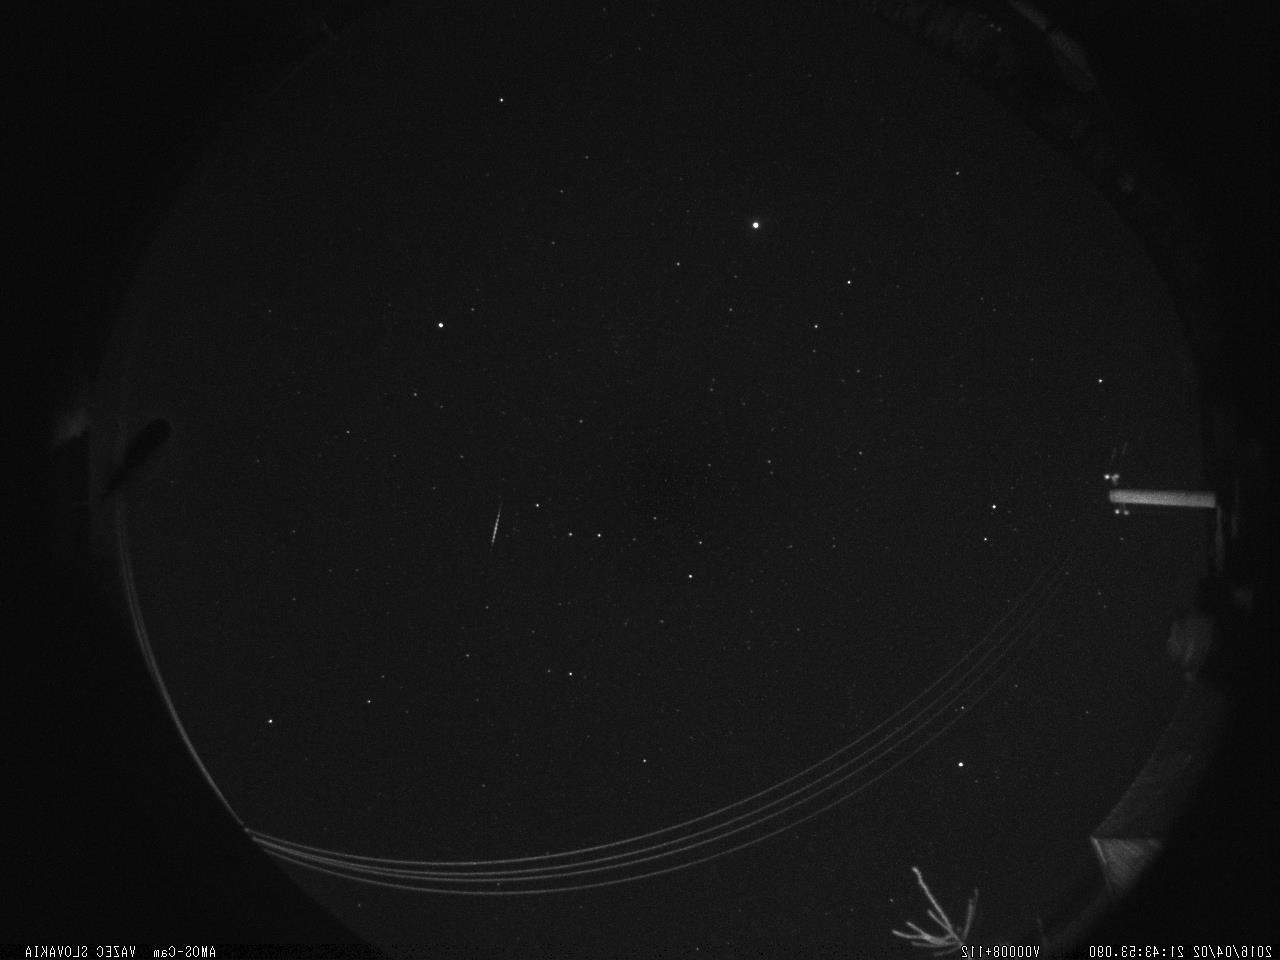meteor: (482, 503, 512, 551)
